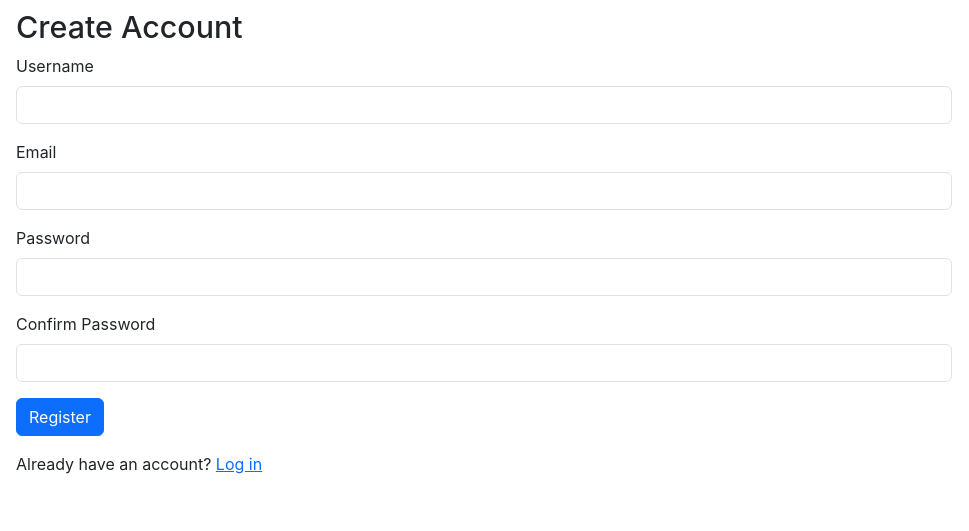
Test: Register › uses fallback error when backend provides none
This screenshot has width=969, height=531.
Type "nate" into the field labelled "Username".
click(484, 104); type("nate")  # box [16, 86, 952, 124]
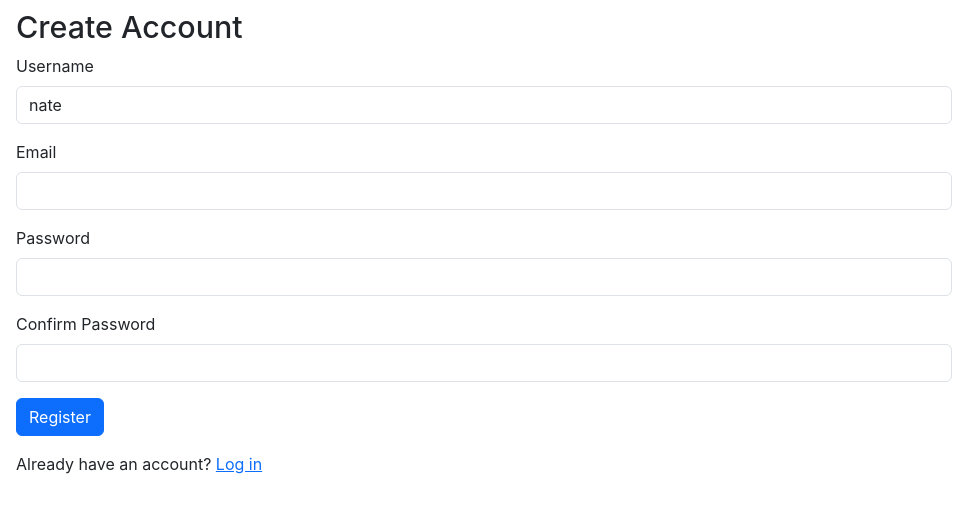
Type "nate@example.com" into the field labelled "Email".
click(484, 190); type("nate@example.com")  # box [16, 172, 952, 210]
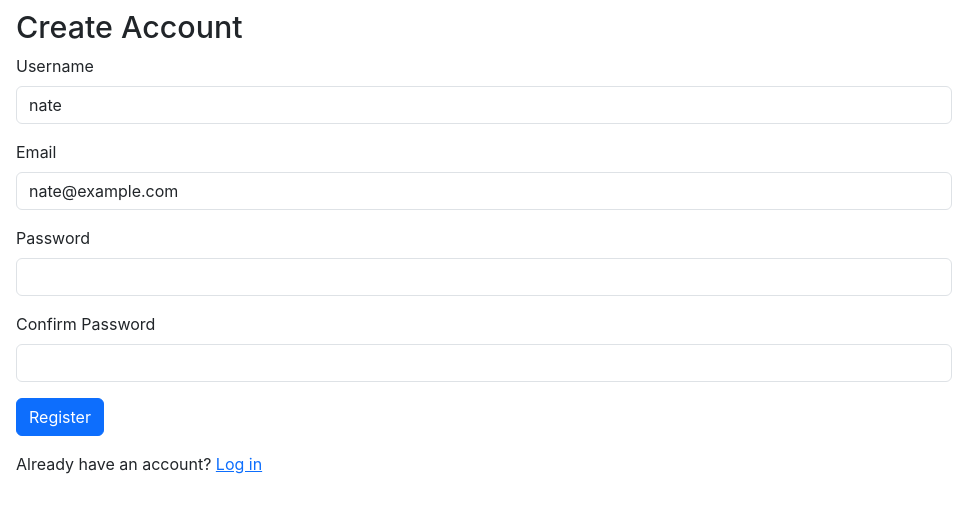
Type "password123" into the password field labelled "Password".
click(484, 276); type("password123")  # box [16, 258, 952, 296]
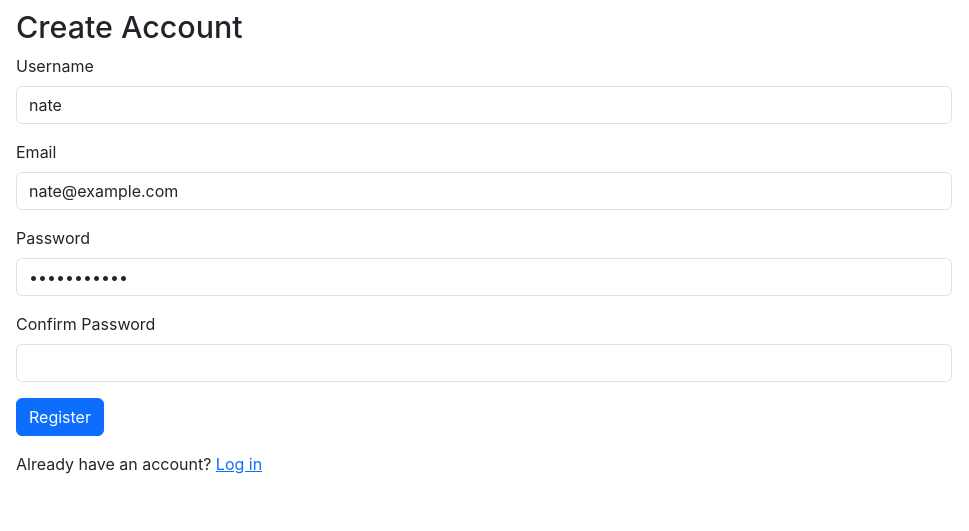
Type "password123" into the password field labelled "Confirm Password".
click(484, 362); type("password123")  # box [16, 344, 952, 382]
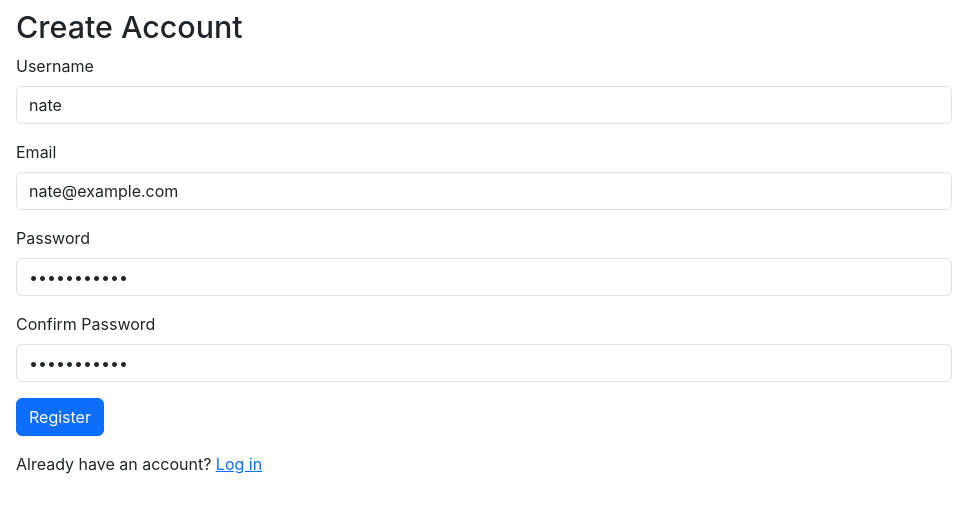
Click the button "Register".
click(60, 416)  # box [16, 398, 104, 436]
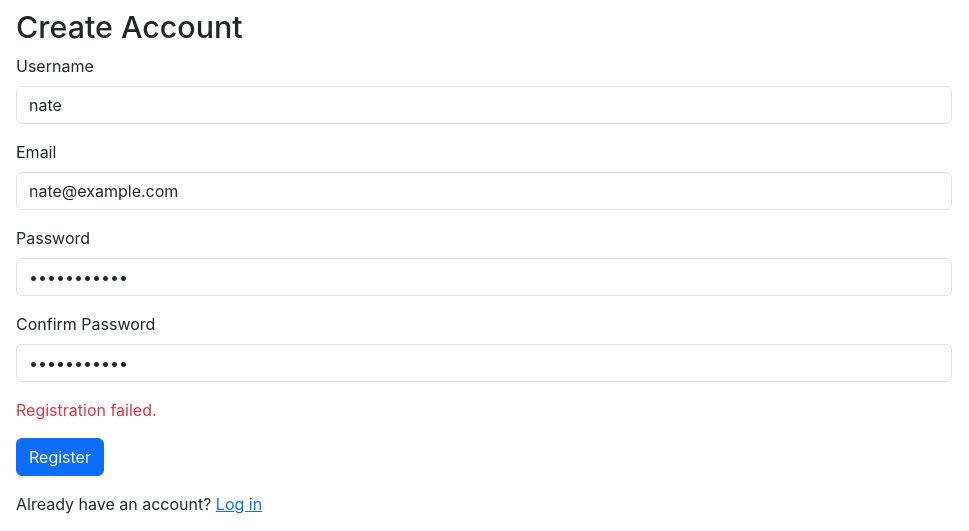
Now the text "Registration failed." is shown, box [16, 400, 157, 420]
